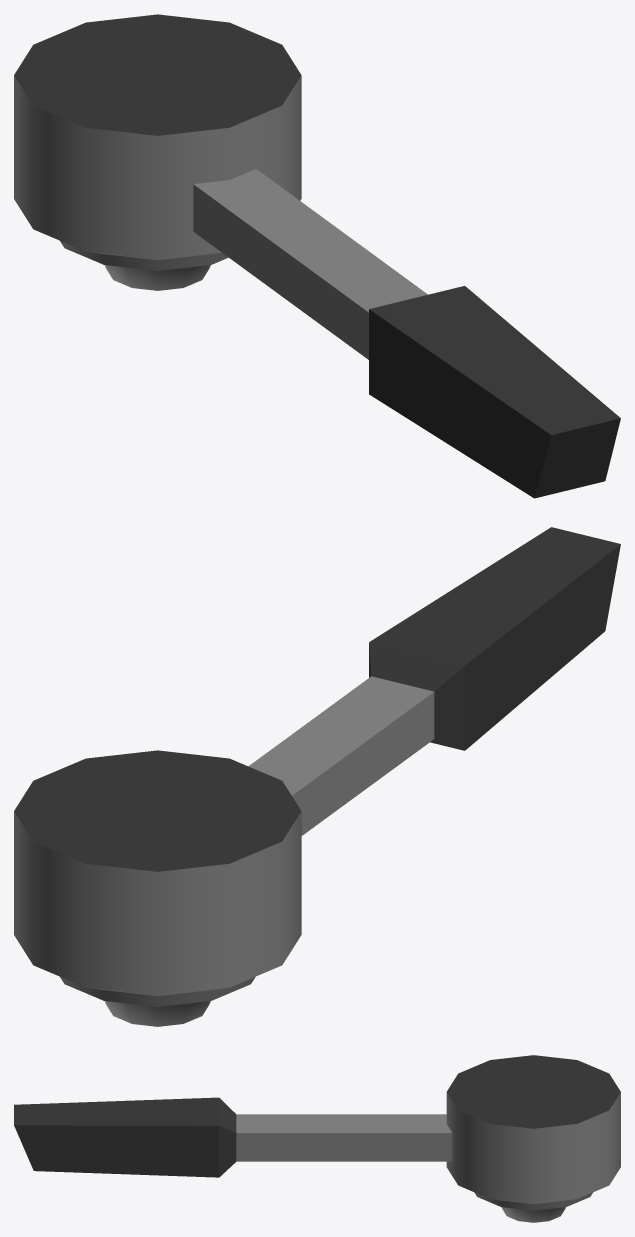
File: coffee_machine_acc.fbx
3 renders of one model, top to bottom at view 1: azimuth 30°, elevation 25°; view 2: azimuth 150°, elevation 25°; view 3: azimuth 270°, elevation 25°, orthographic. The views are drawn at different scales.
Visible parts, largest first — view 1: coffee_machine_acc; view 2: coffee_machine_acc; view 3: coffee_machine_acc.
Part boxes in pixels (x1,y1,x2,y2): coffee_machine_acc: (14,14,620,498); coffee_machine_acc: (14,527,620,1026); coffee_machine_acc: (14,1055,620,1222).
Bounding box in the file's own units: 5.84 × 4.35 × 20.31.
